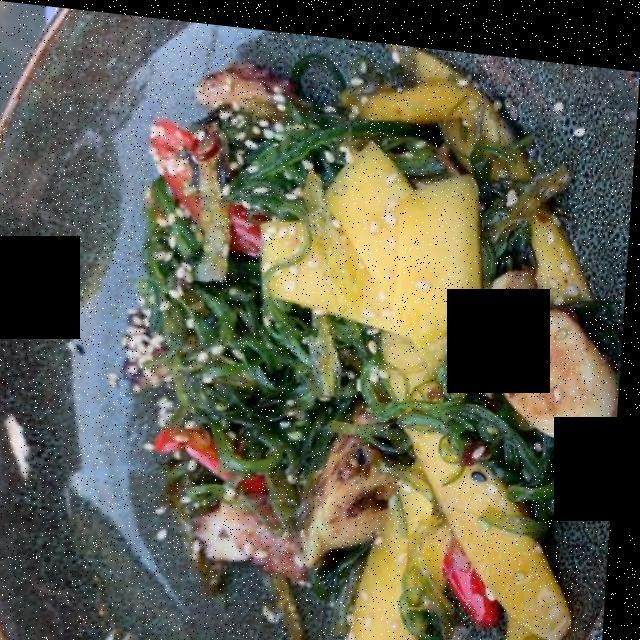salad: (90, 33, 627, 640)
